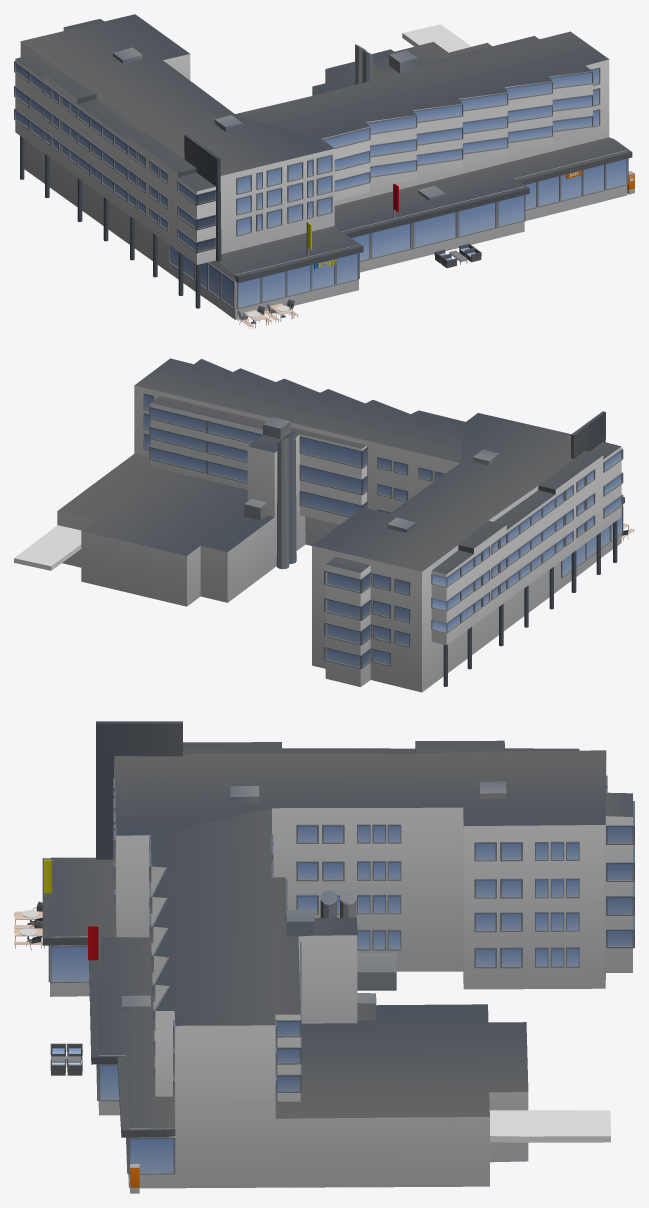
Rendered from r_kioski_facade.fbx.
The picture shows the model from 3 angles, top to bottom: view 1: azimuth 30°, elevation 25°; view 2: azimuth 150°, elevation 25°; view 3: azimuth 270°, elevation 25°; orthographic projection. The views are drawn at different scales.
Parts seen in each view (by area): view 1: r_kioski, r_kioski_b; view 2: r_kioski; view 3: r_kioski, r_kioski_b.
Part boxes in pixels (left/top/right/bottom): r_kioski: left=14, top=14, right=634, bottom=319; r_kioski_b: left=237, top=243, right=481, bottom=329; r_kioski: left=14, top=358, right=624, bottom=692; r_kioski: left=42, top=721, right=634, bottom=1193; r_kioski_b: left=14, top=911, right=82, bottom=1075.
Size of the model in its own units: 157 by 49.68 by 143.
